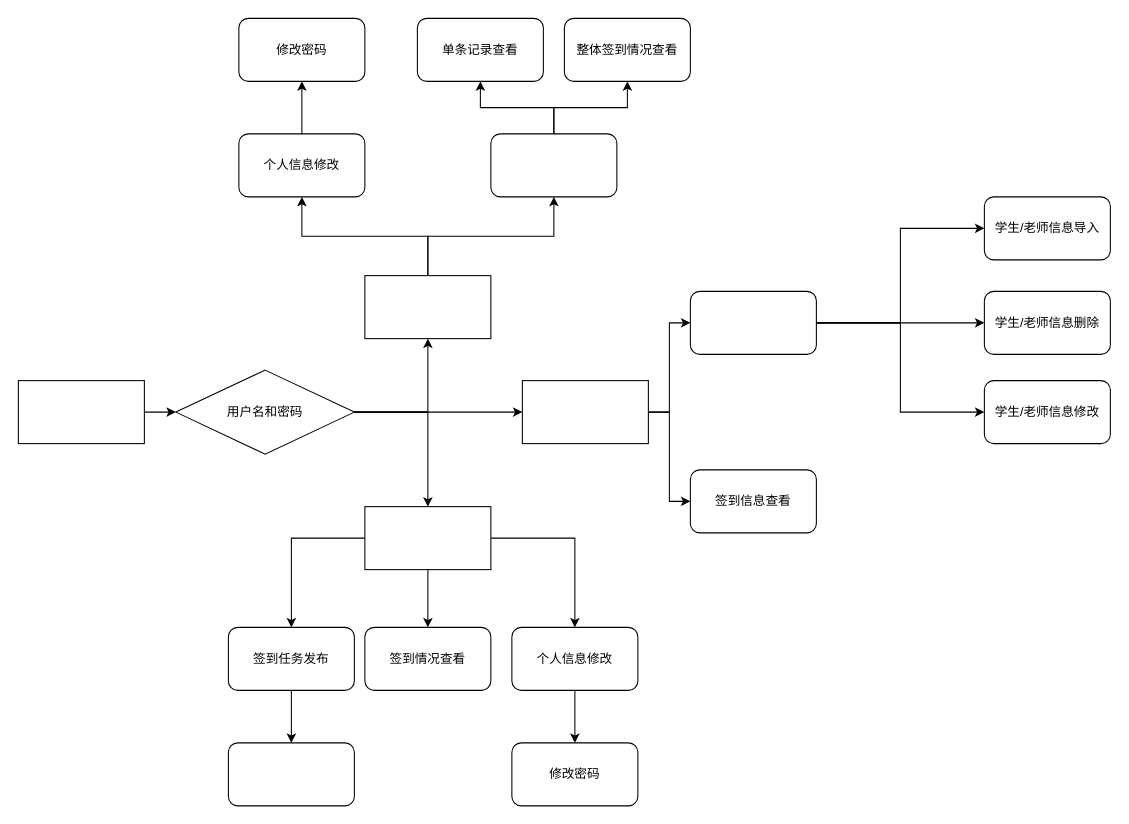
Image size: 1129x824. Some labels were removed from this diagram. Here are the shapes that lost their labels. From the top down, the centre of each, then its label:
(x=553, y=165): 签到记录查看
(x=427, y=307): 学生
(x=752, y=322): 学生/老师信息管理
(x=80, y=412): 登录
(x=584, y=412): 管理员
(x=427, y=538): 老师
(x=290, y=774): 选择签到人员范围/签到时间等信息
